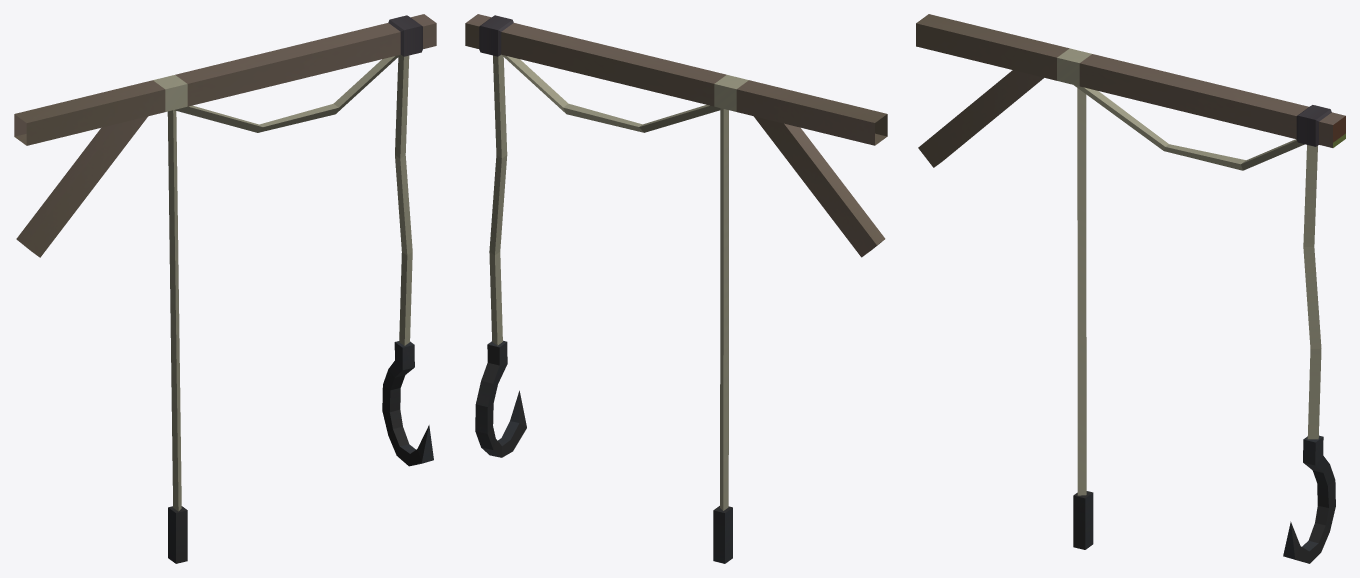
The model's file is Crane_3_LOD1.fbx.
3 views of the same model, side by side, from view 1: azimuth 30°, elevation 25°; view 2: azimuth 150°, elevation 25°; view 3: azimuth 330°, elevation 25° (orthographic).
Visible parts, largest first — view 1: polySurface9797; view 2: polySurface9797; view 3: polySurface9797.
Part boxes in pixels (x1,y1,x2,y2): polySurface9797: [14, 14, 436, 563]; polySurface9797: [465, 14, 887, 563]; polySurface9797: [916, 14, 1345, 563].
Size of the model in its own units: 415 by 466 by 70.06.
